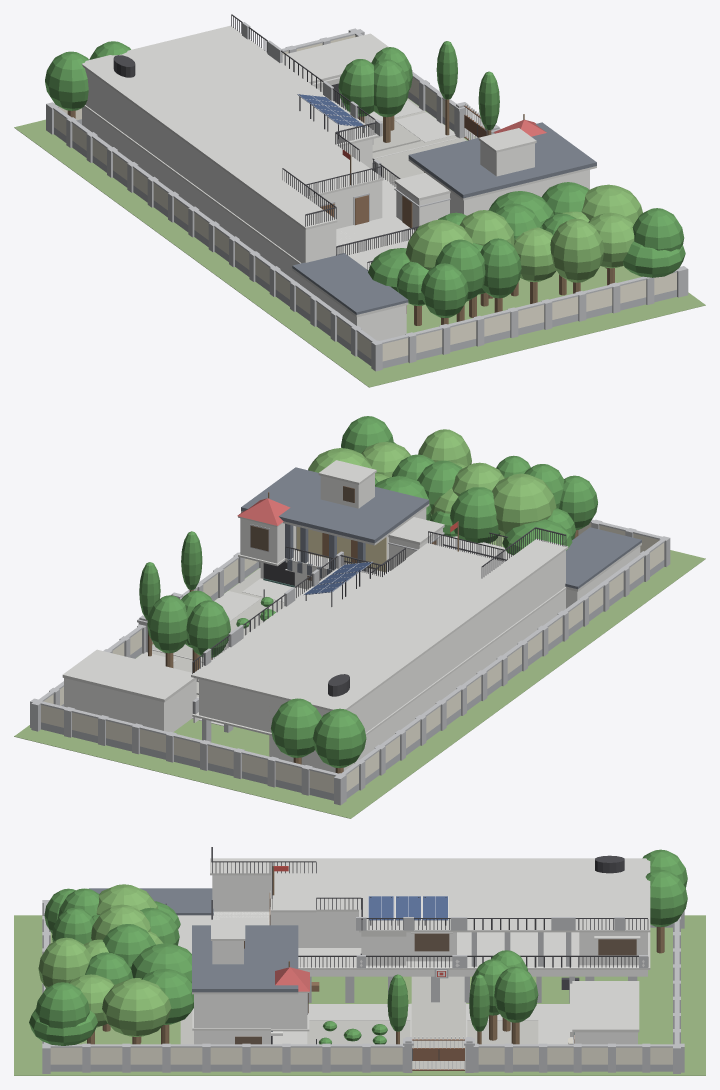
Rendered from house_compound.glb.
3 views of the same model, one above another, from view 1: azimuth 30°, elevation 25°; view 2: azimuth 150°, elevation 25°; view 3: azimuth 270°, elevation 25° (orthographic). The views are drawn at different scales.
Visible parts, largest first — view 1: compound; view 2: compound; view 3: compound.
Boxes of the visible parts, bbox=[...] form: compound: bbox=[14, 14, 705, 387]; compound: bbox=[14, 416, 705, 818]; compound: bbox=[14, 847, 705, 1075].
Size of the model in its own units: 19.66 by 5.98 by 35.89.
